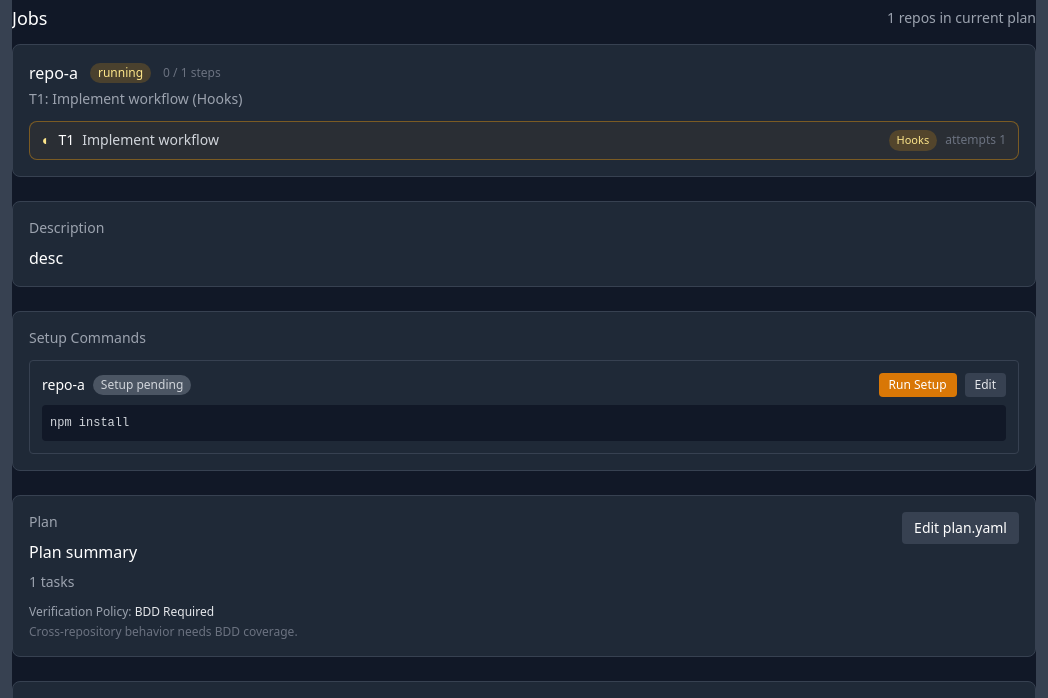
it: ItemDetailPage workflow UI › displays error message when runRepoSetup fails
The image size is (1048, 698).
(page scrolled)
Click the button "Run Setup" at x=918, y=384, box [879,372,956,396]
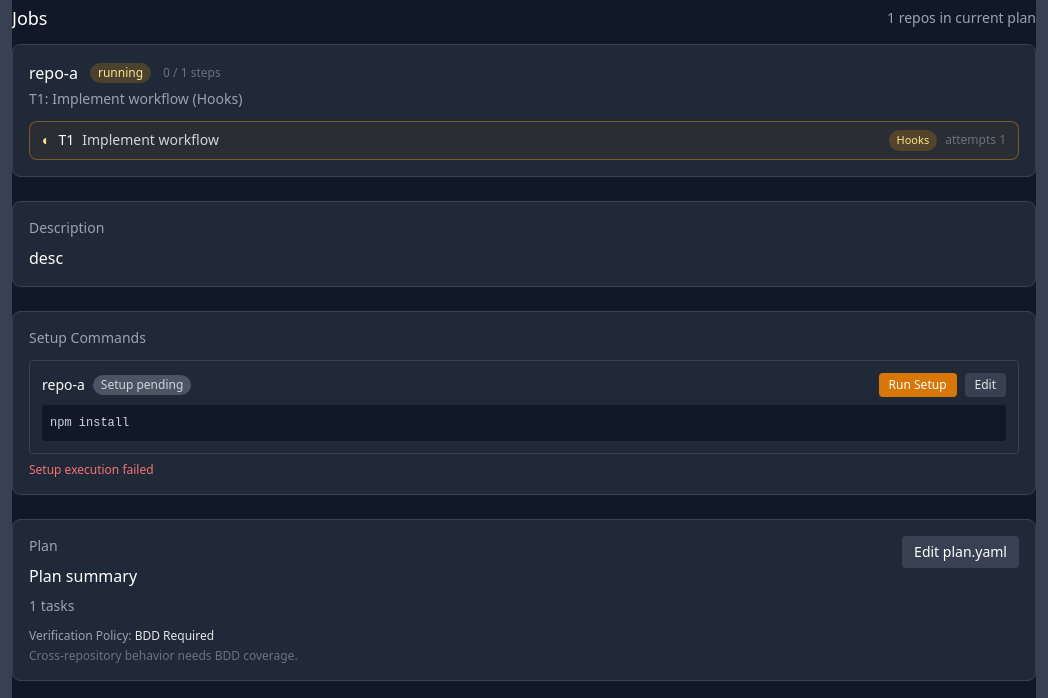
Result: the text "Setup execution failed" is shown at [29,460,154,478]
